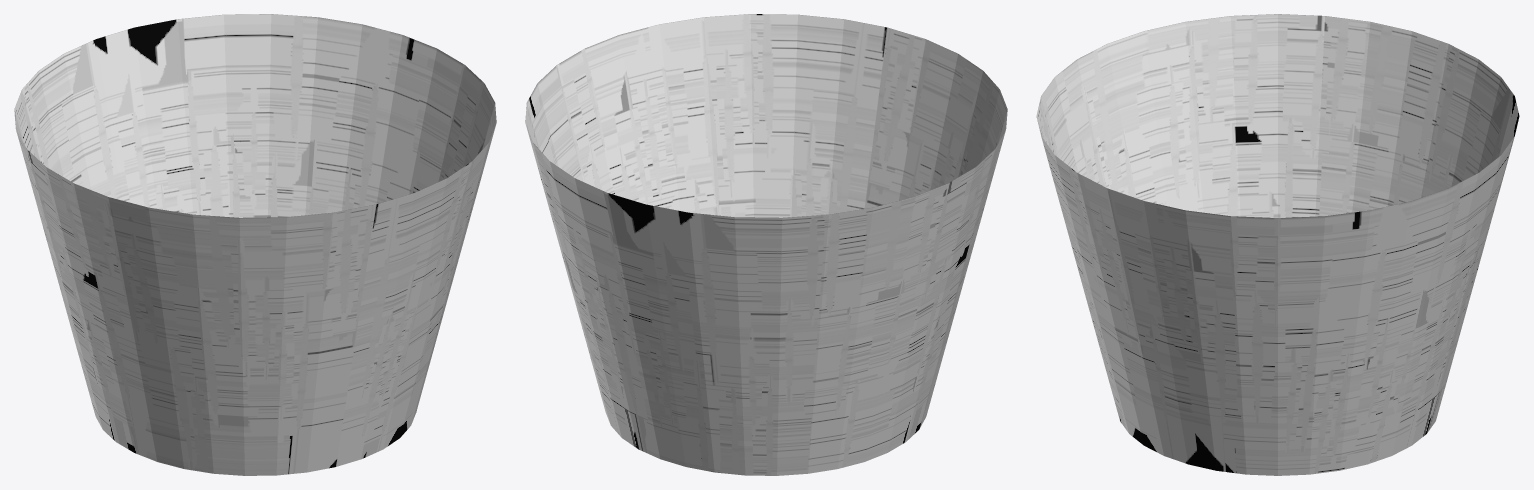
File: StompSpeedEffect.obj
3 views of the same model, side by side, from view 1: azimuth 30°, elevation 25°; view 2: azimuth 150°, elevation 25°; view 3: azimuth 270°, elevation 25° (orthographic).
Parts seen in each view (by area): view 1: 円柱; view 2: 円柱; view 3: 円柱.
Boxes of the visible parts, <box> form: 円柱: <box>14,14,496,475</box>; 円柱: <box>525,14,1007,475</box>; 円柱: <box>1036,14,1519,475</box>.
Bounding box in the file's own units: 3.9 × 2.6 × 3.9.
1 material, 1 textured.
